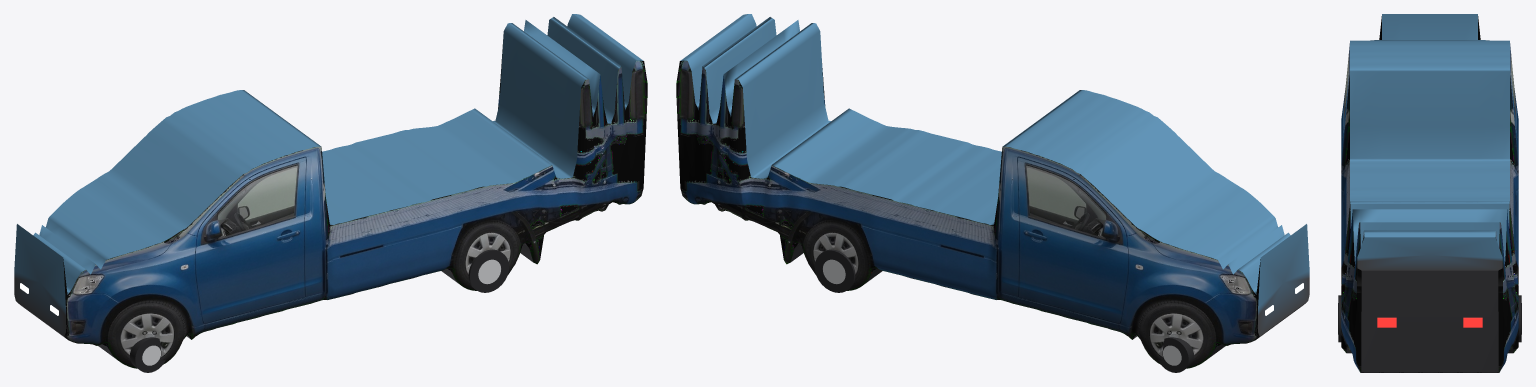
The model's file is tow.glb.
The picture shows the model from 3 angles, left to right: view 1: azimuth 30°, elevation 25°; view 2: azimuth 150°, elevation 25°; view 3: azimuth 270°, elevation 25°; orthographic projection. The views are drawn at different scales.
Visible parts, largest first — view 1: tow; view 2: tow; view 3: tow.
Boxes of the visible parts, bbox=[...] form: tow: bbox=[14, 14, 647, 372]; tow: bbox=[676, 14, 1309, 372]; tow: bbox=[1338, 14, 1521, 372].
Size of the model in its own units: 6.33 by 1.94 by 1.7.
Materials: 8 (2 with a texture image).
